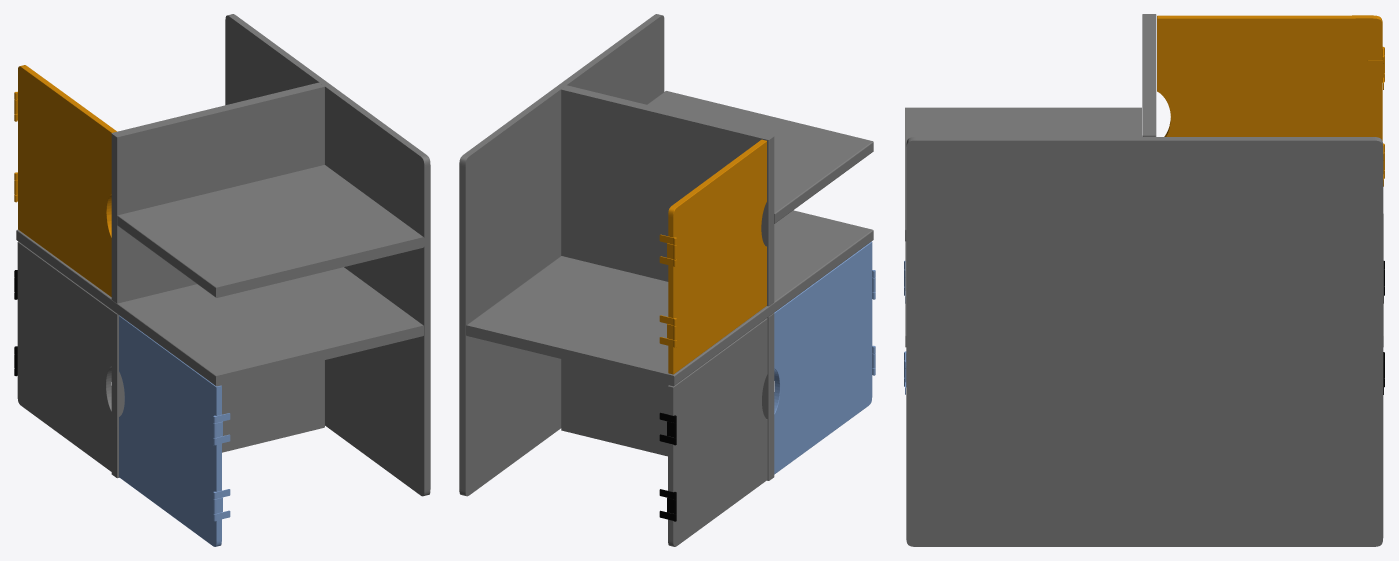
The model's file is Rafn_commode_FBX.FBX.
The picture shows the model from 3 angles, left to right: view 1: azimuth 30°, elevation 25°; view 2: azimuth 150°, elevation 25°; view 3: azimuth 270°, elevation 25°; orthographic projection. The views are drawn at different scales.
Visible parts, largest first — view 1: Rafn_commode_014, Rafn_commode_015, Rafn_commode_024, Rafn_commode_018, Rafn_commode_021; view 2: Rafn_commode_014, Rafn_commode_015, Rafn_commode_018, Rafn_commode_024, Rafn_commode_021; view 3: Rafn_commode_015, Rafn_commode_018, Rafn_commode_014.
Boxes of the visible parts, <box> form: Rafn_commode_014: <box>16,82,424,478</box>; Rafn_commode_015: <box>225,14,430,496</box>; Rafn_commode_024: <box>119,315,222,546</box>; Rafn_commode_018: <box>14,65,116,296</box>; Rafn_commode_021: <box>14,241,111,471</box>; Rafn_commode_014: <box>466,85,873,480</box>; Rafn_commode_015: <box>459,14,664,496</box>; Rafn_commode_018: <box>667,139,766,374</box>; Rafn_commode_024: <box>774,241,875,474</box>; Rafn_commode_021: <box>667,318,767,546</box>; Rafn_commode_015: <box>906,137,1383,546</box>; Rafn_commode_018: <box>1157,15,1384,174</box>; Rafn_commode_014: <box>905,14,1383,347</box>.
Size of the model in its own units: 451 by 678 by 723.
